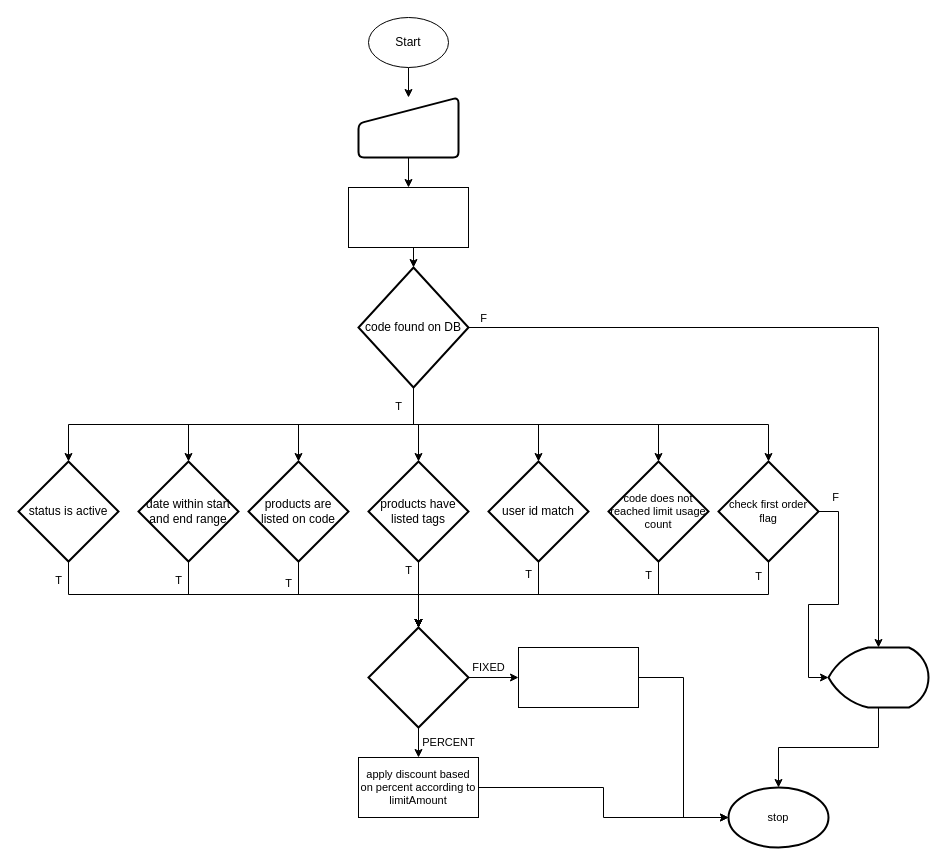
The diagram is 946 pixels wide and 866 high, and some of its shapes have lost their labels. Here are the shapes that lost their labels. From the top down, the centre of each, then its label:
At [408,127]: "Discout Code".
At [408,217]: "Read discount code from DB".
At [418,677]: "type".
At [578,677]: "apply fixed amount discount".
At [878,677]: "Error".
